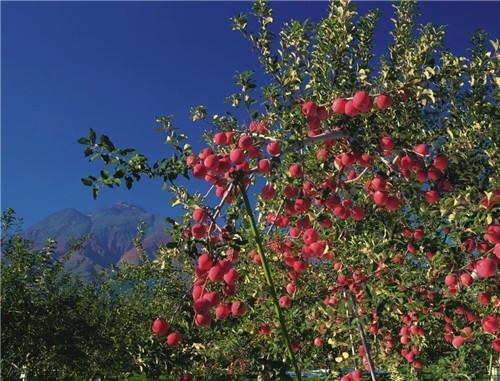apple: (352, 90, 371, 112), (302, 228, 320, 243), (301, 101, 317, 117)
